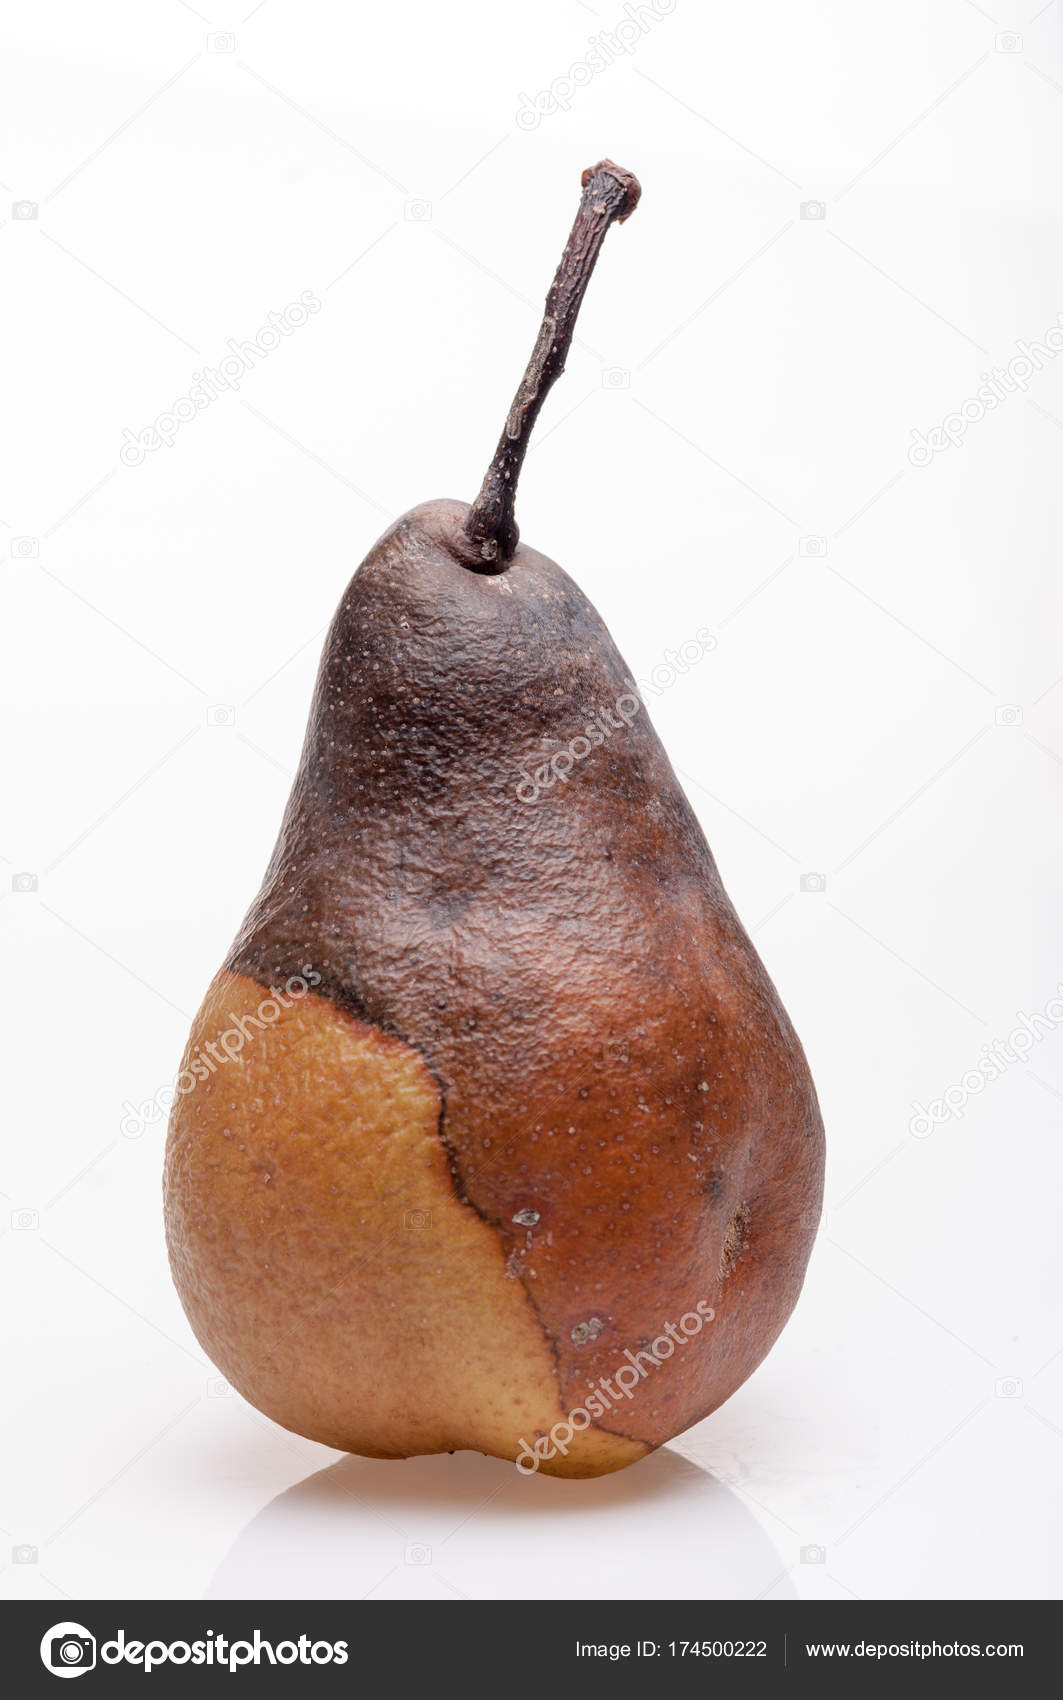damaged_pear: (160, 498, 825, 1520)
